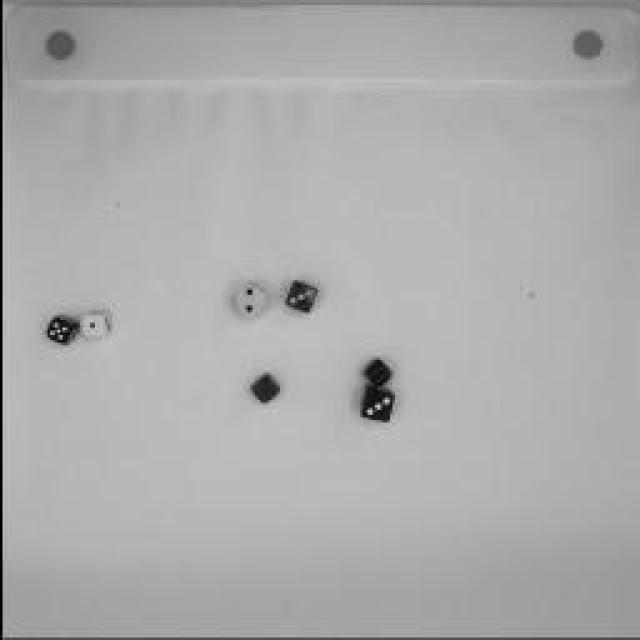dice_1: (74, 309, 114, 341)
dice_2: (230, 278, 270, 322)
dice_3: (279, 276, 321, 322), (352, 385, 398, 427)
dice_4: (240, 374, 285, 408)
dice_5: (43, 310, 75, 350)
dice_6: (353, 358, 395, 388)
